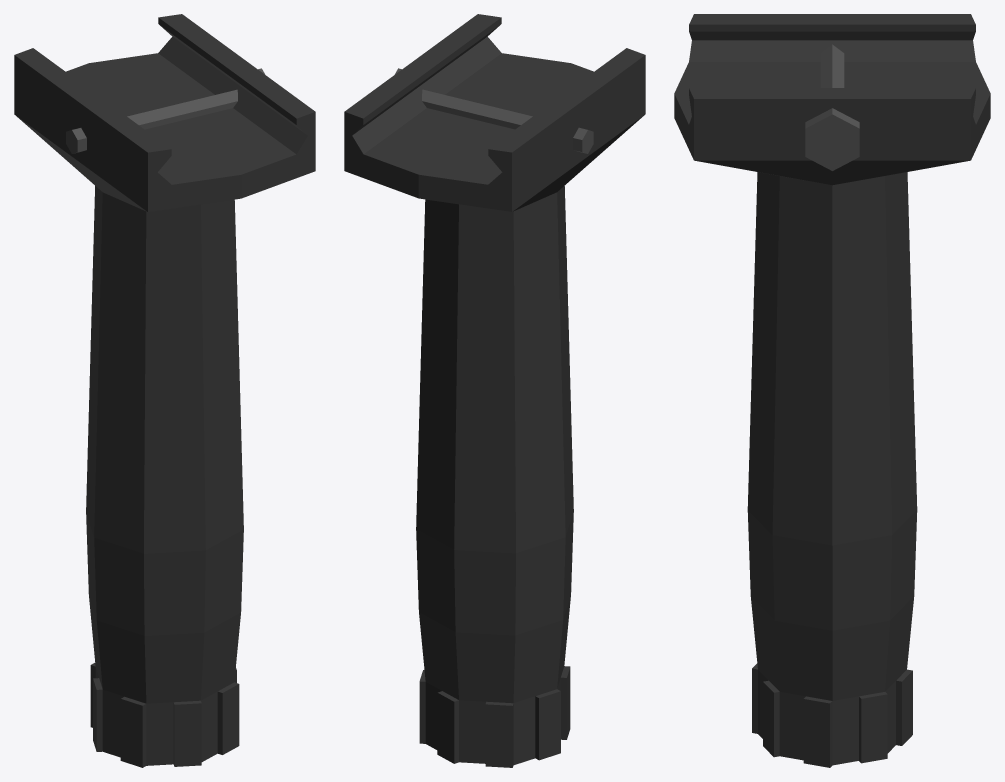
The model's file is vertical_Grip.fbx.
The picture shows the model from 3 angles, left to right: view 1: azimuth 30°, elevation 25°; view 2: azimuth 150°, elevation 25°; view 3: azimuth 270°, elevation 25°; orthographic projection. The views are drawn at different scales.
Parts seen in each view (by area): view 1: Vertic_Grip; view 2: Vertic_Grip; view 3: Vertic_Grip.
Part boxes in pixels (x1=…): Vertic_Grip: x1=14, y1=14, x2=315, y2=767; Vertic_Grip: x1=344, y1=14, x2=645, y2=767; Vertic_Grip: x1=674, y1=14, x2=990, y2=767.
Bounding box in the file's own units: 3.55 × 11.68 × 4.94.
Materials: 1 (1 with a texture image).
